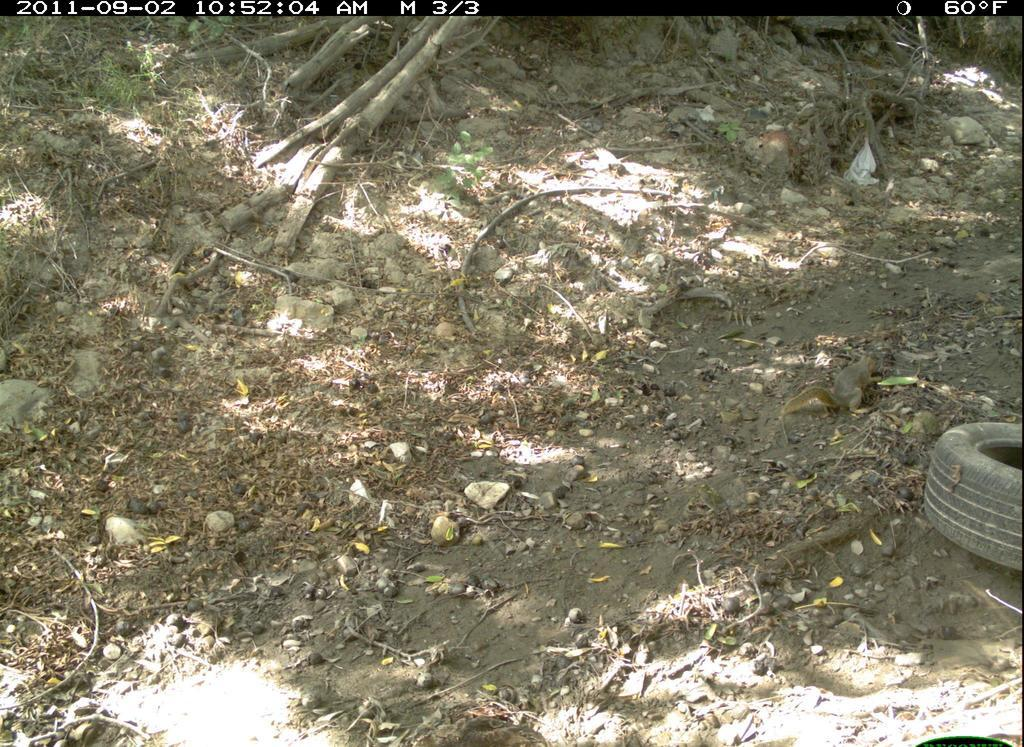squirrel: (772, 344, 897, 429)
